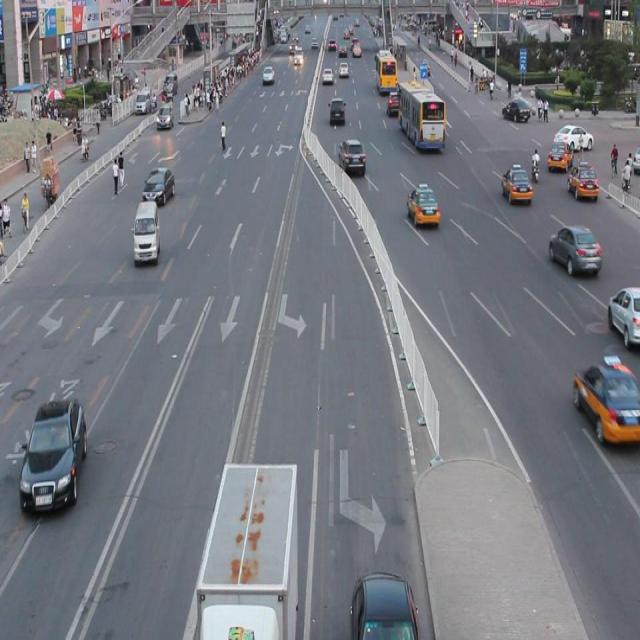bus: (194, 460, 297, 640)
car: (19, 395, 87, 514), (572, 361, 640, 443), (349, 569, 420, 640), (548, 223, 600, 275), (606, 285, 640, 345), (406, 184, 439, 226), (142, 168, 175, 204), (566, 161, 597, 198), (501, 166, 532, 203)
truck: (133, 200, 160, 262)
